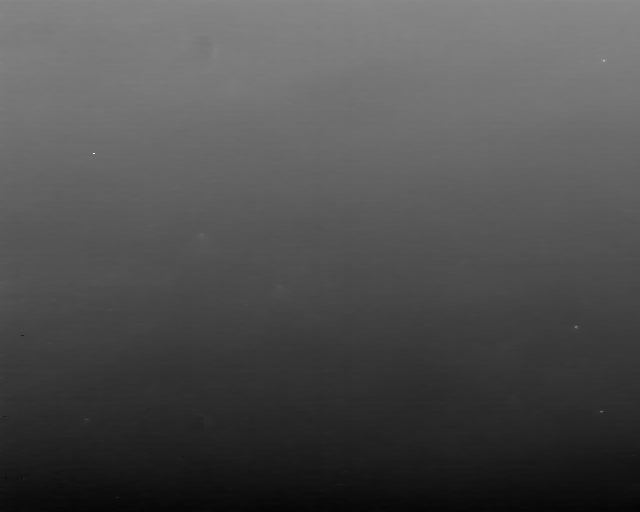Target: (573, 326, 580, 330), (602, 60, 608, 63), (600, 411, 605, 414), (93, 153, 97, 155)
